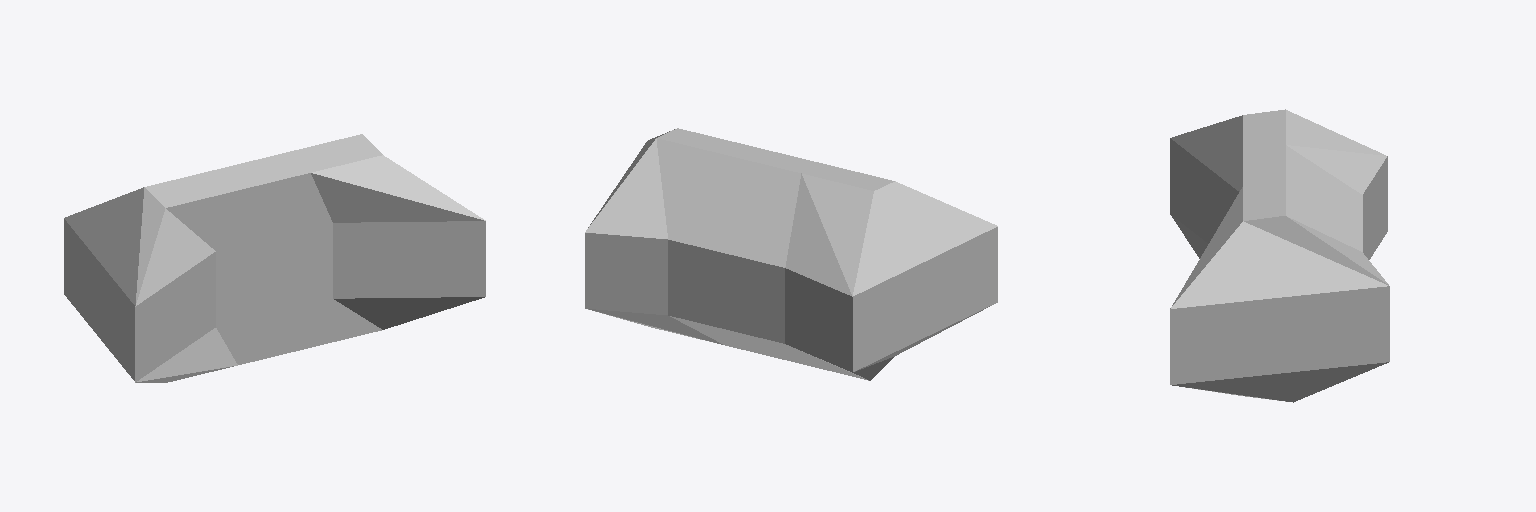
Rendered from WhalePart1.obj.
3 views of the same model, side by side, from view 1: azimuth 30°, elevation 25°; view 2: azimuth 150°, elevation 25°; view 3: azimuth 270°, elevation 25° (orthographic).
Parts seen in each view (by area): view 1: Part1; view 2: Part1; view 3: Part1.
Part boxes in pixels (x1,y1,x2,y2): Part1: (64,134,485,382); Part1: (585,128,997,380); Part1: (1170,109,1389,402).
Size of the model in its own units: 3.35 by 1.71 by 1.82.